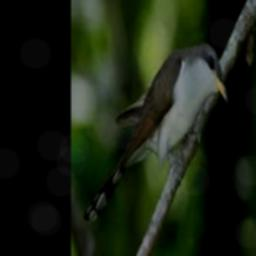Cuckoo: (84, 43, 228, 223)
